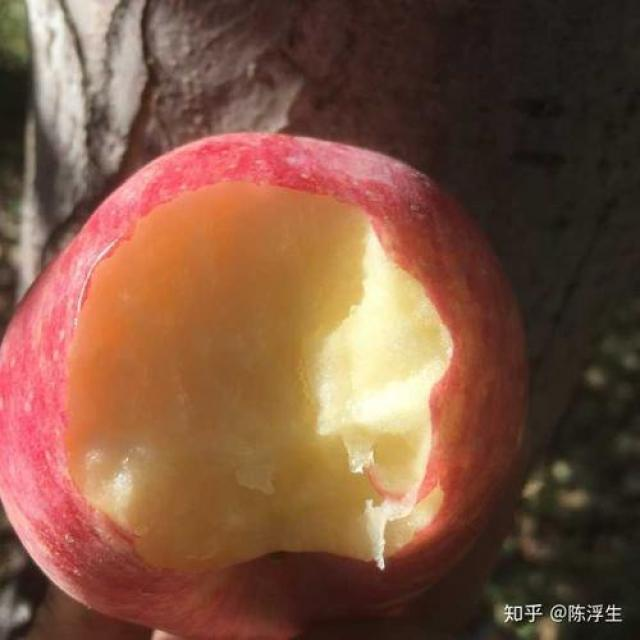Rotten: (2, 125, 538, 640)
